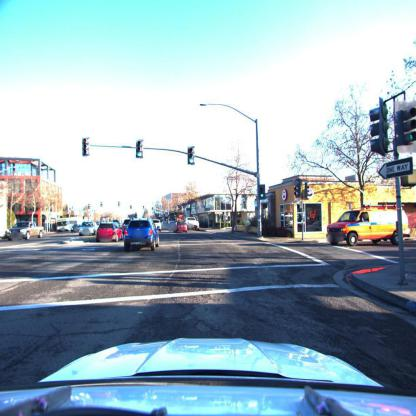car: (0, 334, 416, 416), (327, 207, 410, 247), (123, 219, 160, 250), (8, 223, 45, 242), (96, 223, 119, 241), (56, 219, 78, 234), (78, 222, 96, 236), (162, 220, 177, 232), (187, 218, 200, 230), (175, 222, 188, 233), (152, 219, 162, 231)
